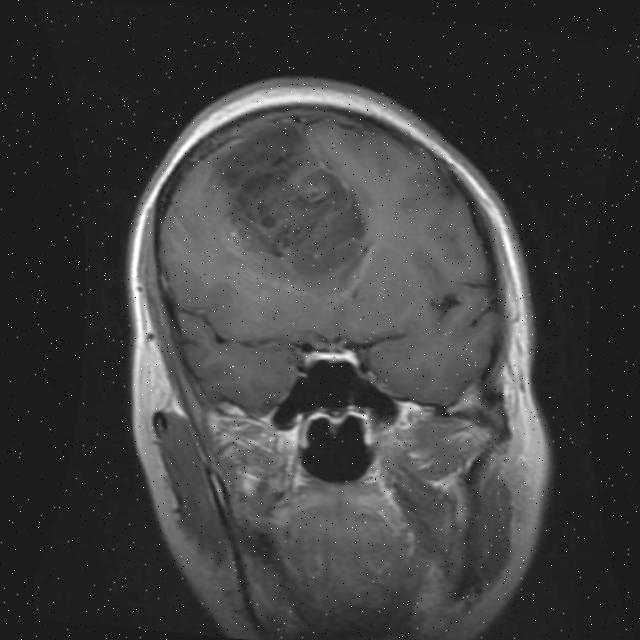Glioma: (204, 110, 378, 289)
